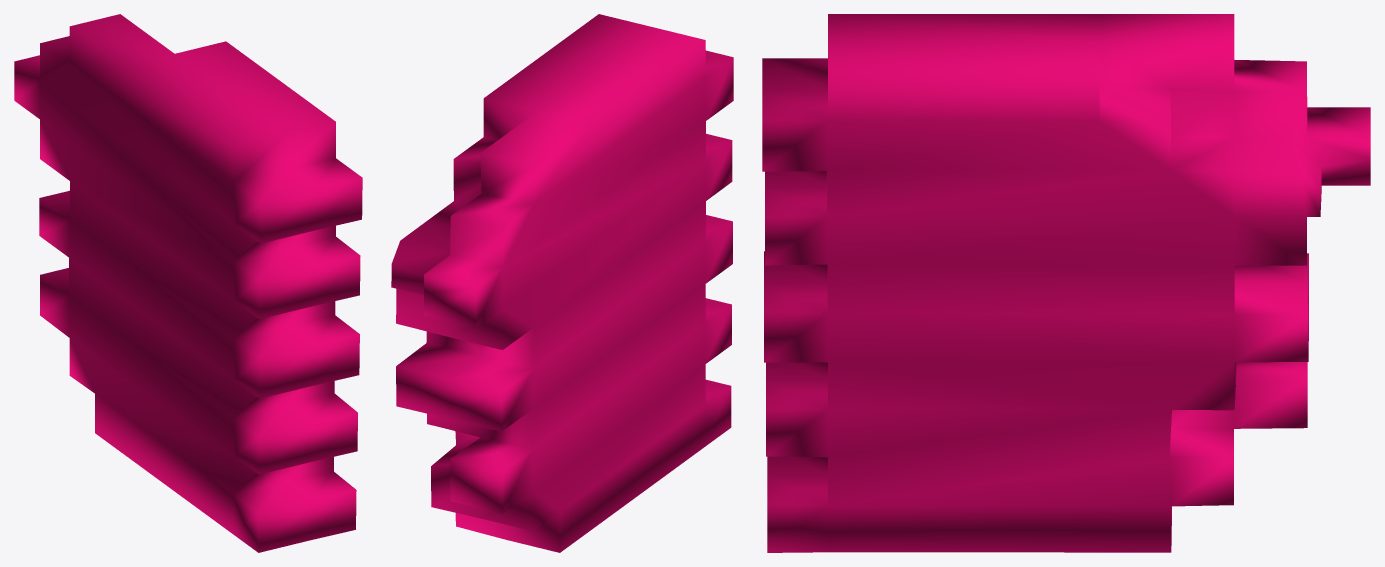
Rendered from Brick_Break_01_Lod0.fbx.
The picture shows the model from 3 angles, left to right: view 1: azimuth 30°, elevation 25°; view 2: azimuth 150°, elevation 25°; view 3: azimuth 270°, elevation 25°; orthographic projection. The views are drawn at different scales.
Parts seen in each view (by area): view 1: Brick_Break_01_Lod0; view 2: Brick_Break_01_Lod0; view 3: Brick_Break_01_Lod0.
Part boxes in pixels (x1,y1,x2,y2): Brick_Break_01_Lod0: (14,14,362,552); Brick_Break_01_Lod0: (391,14,733,552); Brick_Break_01_Lod0: (762,14,1370,552).
Size of the model in its own units: 21.06 by 76.52 by 87.83.
